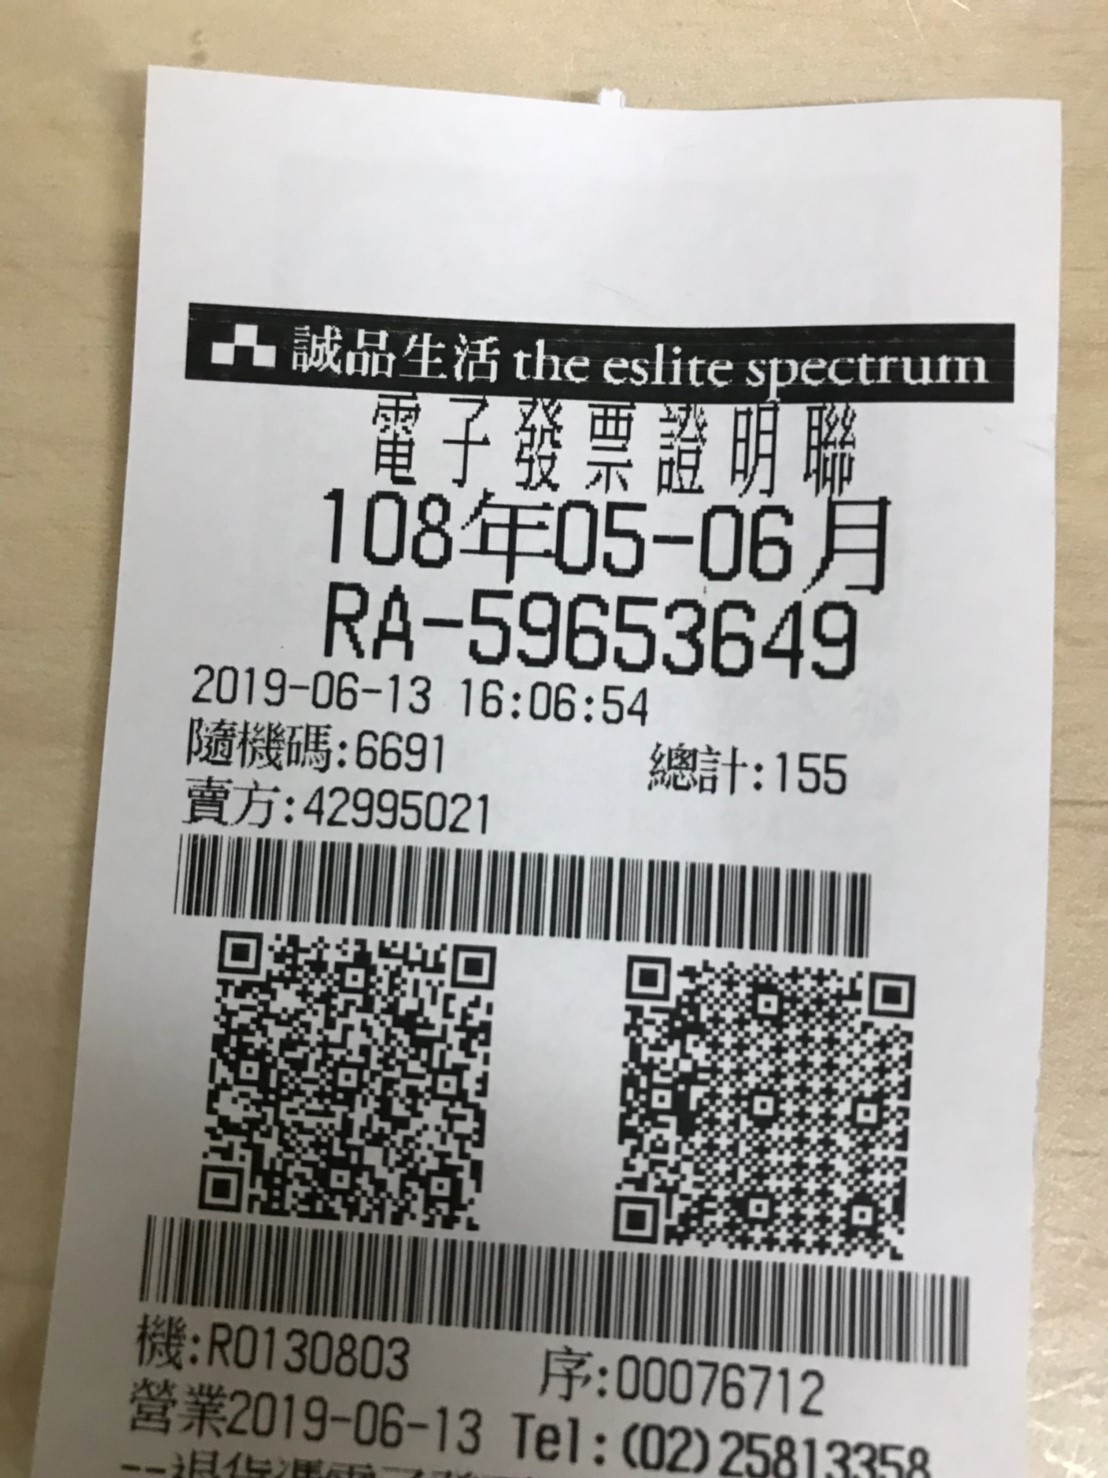Date_New: (318, 479, 893, 591)
Number_New: (463, 580, 864, 684)
